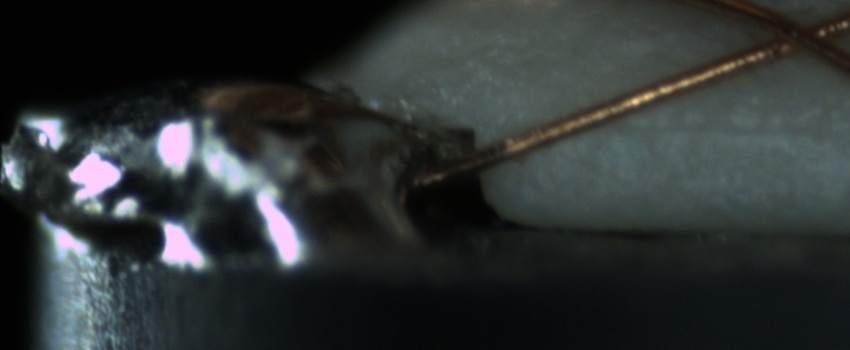CL: (746, 3, 843, 65)
DL: (576, 98, 843, 160)
